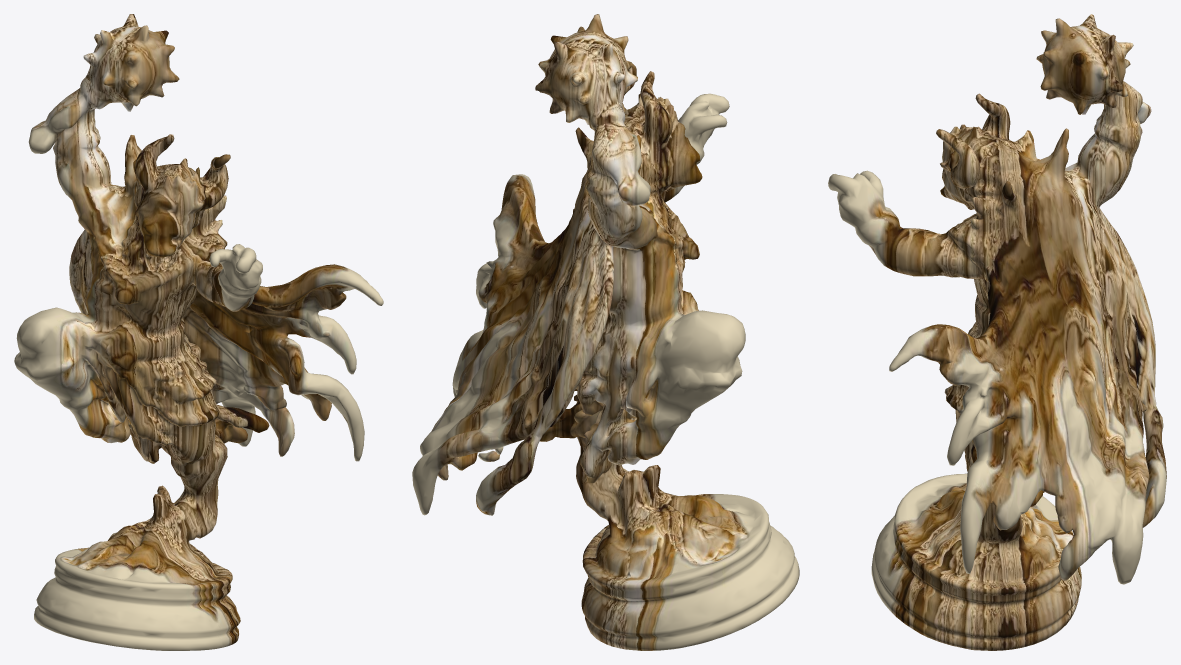
The model's file is ashva.glb.
The picture shows the model from 3 angles, left to right: view 1: azimuth 30°, elevation 25°; view 2: azimuth 150°, elevation 25°; view 3: azimuth 270°, elevation 25°; orthographic projection. The views are drawn at different scales.
Visible parts, largest first — view 1: geometry_0; view 2: geometry_0; view 3: geometry_0.
Boxes of the visible parts, x1,y1,x2,y2 form: geometry_0: [14, 14, 383, 650]; geometry_0: [412, 14, 799, 650]; geometry_0: [828, 14, 1166, 650].
Bounding box in the file's own units: 1.13 × 2.03 × 1.01.
Materials: 1 (1 with a texture image).
